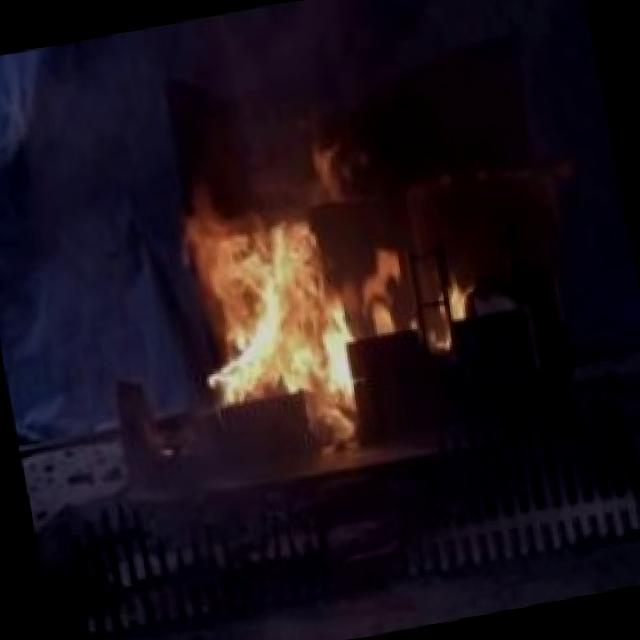fire: (155, 97, 414, 440)
